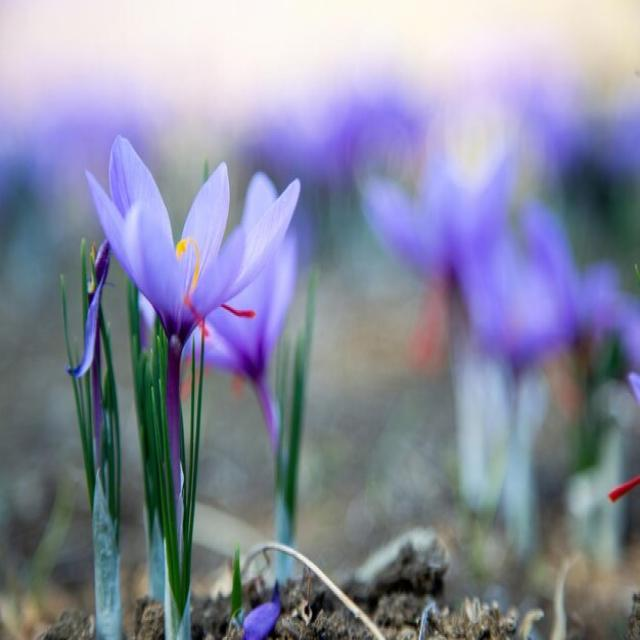saffron open: (87, 137, 300, 529), (206, 233, 295, 450), (241, 173, 278, 229)
